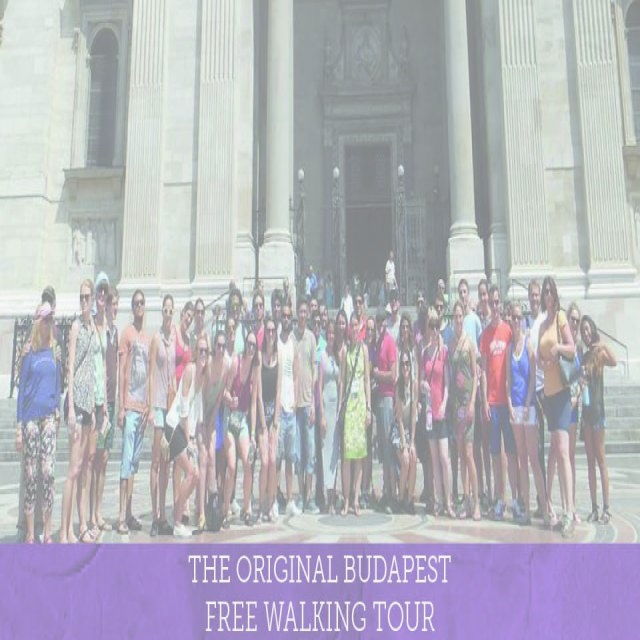pessoa: (10, 284, 68, 544), (534, 272, 586, 540), (12, 297, 64, 549), (478, 282, 526, 522), (504, 300, 554, 530), (114, 285, 158, 535), (58, 278, 98, 546), (163, 334, 210, 538), (85, 284, 122, 536), (577, 310, 619, 528), (218, 326, 260, 532), (445, 298, 482, 521), (419, 307, 457, 521), (334, 310, 372, 520), (286, 294, 322, 514), (146, 293, 178, 539), (195, 328, 232, 534), (88, 270, 114, 540), (252, 315, 285, 525), (270, 302, 302, 518), (522, 276, 550, 520), (456, 278, 484, 507), (416, 298, 443, 516), (317, 315, 343, 516), (373, 307, 398, 516), (388, 344, 418, 516), (503, 301, 527, 516), (564, 300, 584, 532), (310, 306, 328, 510), (362, 312, 378, 508), (170, 299, 195, 397), (393, 310, 421, 382), (384, 283, 404, 383), (227, 286, 250, 359), (188, 296, 212, 364), (432, 290, 456, 354), (248, 290, 271, 354), (345, 286, 368, 344), (331, 307, 351, 370), (472, 276, 492, 333), (412, 288, 428, 348), (384, 246, 400, 304), (340, 282, 354, 340), (270, 288, 284, 337), (352, 272, 369, 310), (224, 314, 237, 362), (222, 276, 237, 314), (317, 301, 329, 342), (303, 270, 312, 320), (306, 294, 321, 322), (324, 272, 334, 312), (281, 278, 292, 310), (308, 262, 318, 292), (241, 293, 251, 320), (434, 279, 446, 297), (384, 298, 392, 320), (468, 300, 479, 316), (316, 274, 322, 301)
